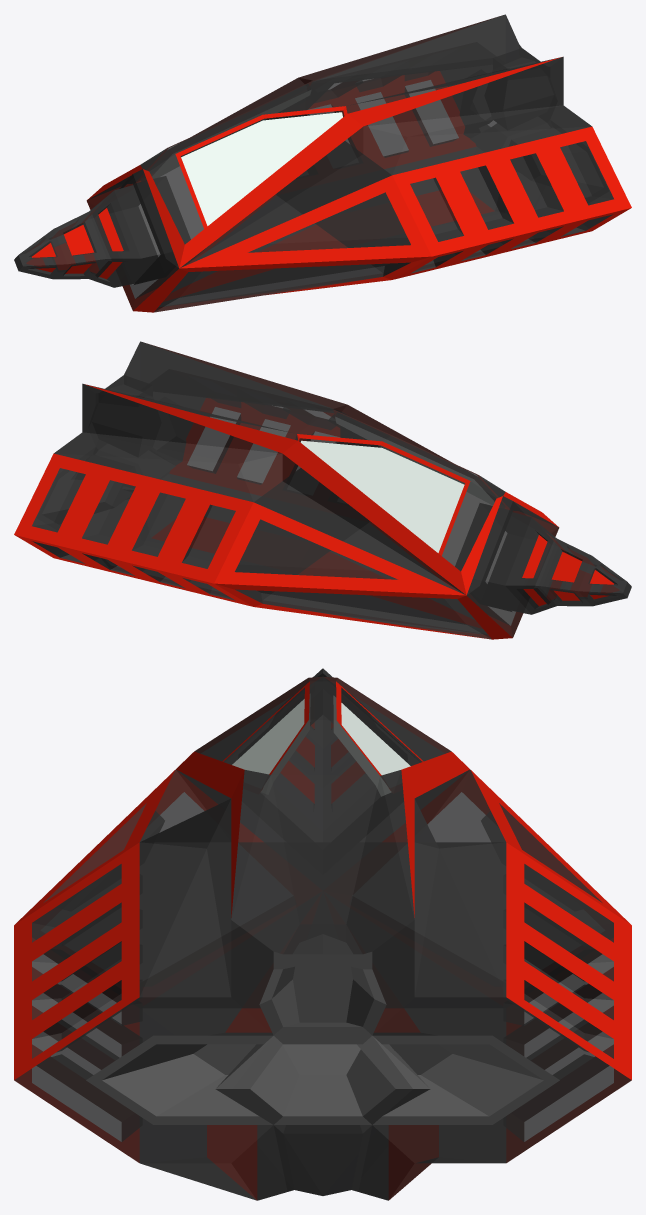
Rendered from Boid_Ship.fbx.
3 views of the same model, one above another, from view 1: azimuth 30°, elevation 25°; view 2: azimuth 150°, elevation 25°; view 3: azimuth 270°, elevation 25° (orthographic). The views are drawn at different scales.
Parts seen in each view (by area): view 1: Cube; view 2: Cube; view 3: Cube.
Part boxes in pixels (x1=…): Cube: x1=14, y1=14, x2=631, y2=312; Cube: x1=14, y1=341, x2=631, y2=639; Cube: x1=14, y1=668, x2=631, y2=1200.
Size of the model in its own units: 527 by 178 by 337.
